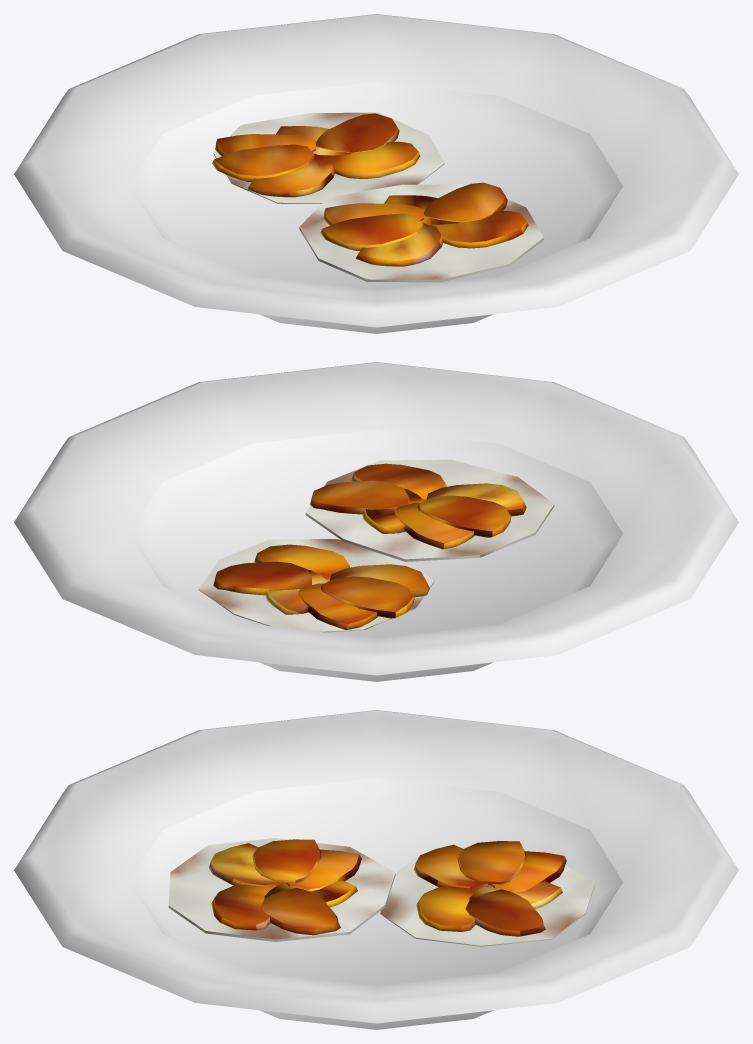
Rendered from AL_TostadasTinga.fbx.
3 renders of one model, top to bottom at view 1: azimuth 30°, elevation 25°; view 2: azimuth 150°, elevation 25°; view 3: azimuth 270°, elevation 25°, orthographic.
Parts seen in each view (by area): view 1: FishFillet.001; view 2: FishFillet.001; view 3: FishFillet.001.
Boxes of the visible parts, box(x1,y1,x2,y2) form: FishFillet.001: box(14, 14, 738, 333); FishFillet.001: box(14, 362, 738, 681); FishFillet.001: box(14, 710, 738, 1029).
Size of the model in its own units: 0.4046 by 0.0567 by 0.4046.
